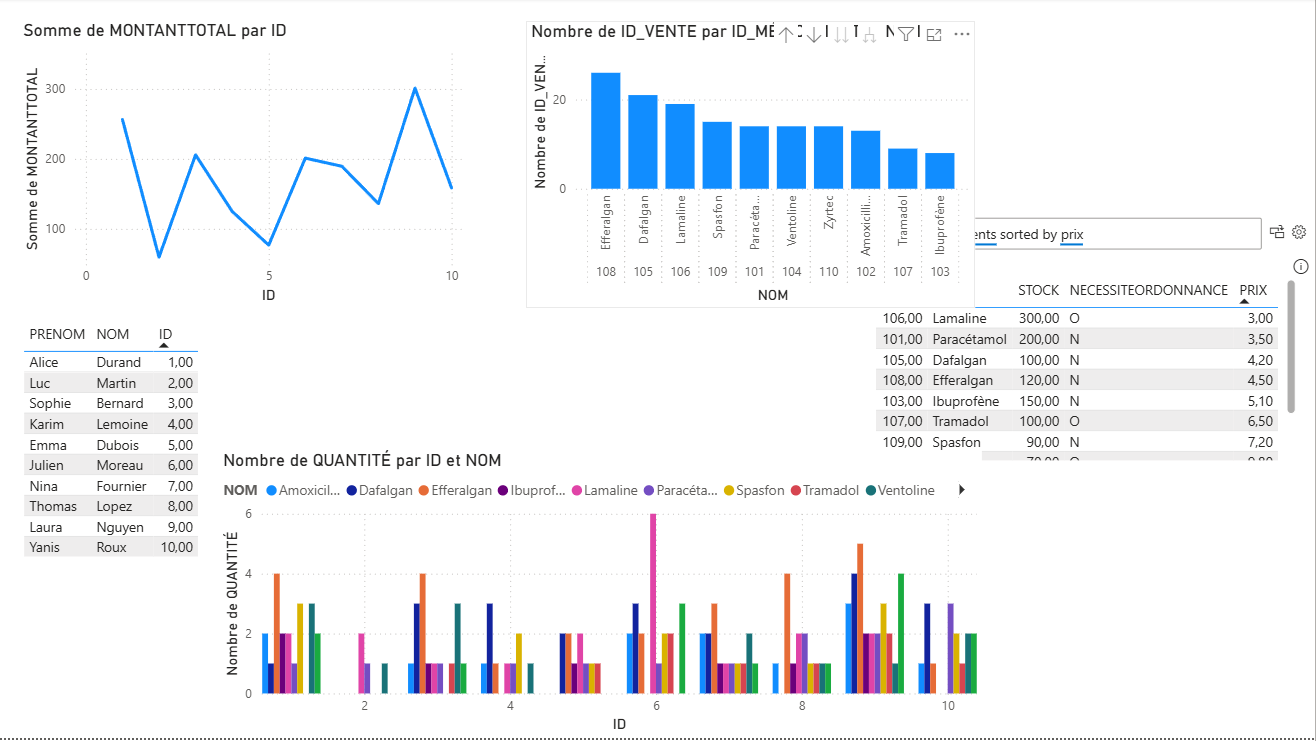

The page's visual inventory and layout, read from the dashboard file:
{"tool":"powerbi","page":{"name":"Page 1","canvas":[1280,720],"ordinal":0},"visuals":[{"type":"lineChart","fields":{"Category":["CLIENTS.ID"],"Y":["VENTES.MONTANTTOTAL"]},"box":[18.5,21.4,436.7,280.1],"z":0},{"type":"qnaVisual","box":[843.3,188.7,436.7,280.1],"z":1},{"type":"tableEx","fields":{"Values":["CLIENTS.PRENOM","CLIENTS.NOM","CLIENTS.ID"]},"box":[18,311,437,280],"z":2},{"type":"clusteredColumnChart","fields":{"Category":["VENTE_MÉDICAMENT.ID_MÉDICAMENT","MÉDICAMENTS.NOM"],"Y":["VENTE_MÉDICAMENT.ID_VENTE"]},"box":[512.6,22.4,436.7,279.1],"z":3},{"type":"clusteredColumnChart","fields":{"Y":["VENTE_MÉDICAMENT.QUANTITÉ"],"Series":["MÉDICAMENTS.NOM"],"Category":["CLIENTS.ID"]},"box":[213,439.6,743.1,280.1],"z":4}]}

Visuals, with their boxes on the page's 1280x720 design canvas (x1, y1, x2, y2). These are canvas units, not pixel positions in the 1316x741 screenshot, which may show the page scaled, cropped or inside an application window:
lineChart - CLIENTS.ID x VENTES.MONTANTTOTAL: [x1=18, y1=21, x2=455, y2=302]
qnaVisual: [x1=843, y1=189, x2=1280, y2=469]
tableEx - CLIENTS.PRENOM x CLIENTS.NOM: [x1=18, y1=311, x2=455, y2=591]
clusteredColumnChart - VENTE_MÉDICAMENT.ID_MÉDICAMENT x MÉDICAMENTS.NOM: [x1=513, y1=22, x2=949, y2=302]
clusteredColumnChart - VENTE_MÉDICAMENT.QUANTITÉ x MÉDICAMENTS.NOM: [x1=213, y1=440, x2=956, y2=720]
